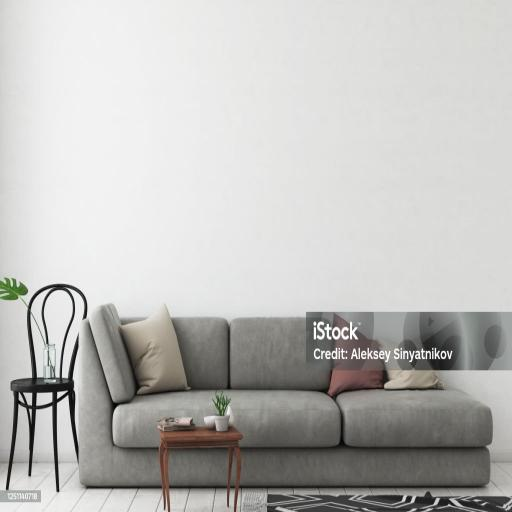back_cushion: (172, 318, 330, 403)
base: (78, 334, 160, 487), (240, 445, 490, 487), (170, 449, 227, 491)
left_arm: (442, 371, 512, 461)
right_arm: (78, 316, 160, 487)
seat_cushion: (228, 390, 492, 448), (111, 390, 214, 448)
stallion-sofa2: (79, 304, 492, 486), (170, 448, 228, 486)
